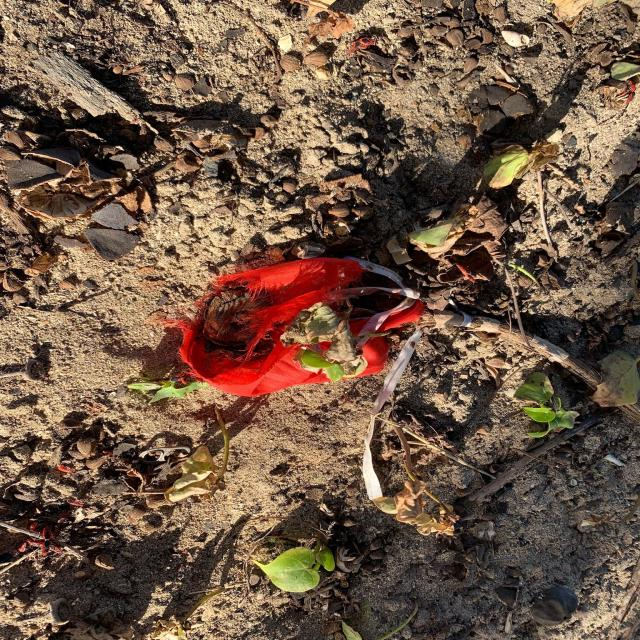litter: (131, 239, 463, 538)
